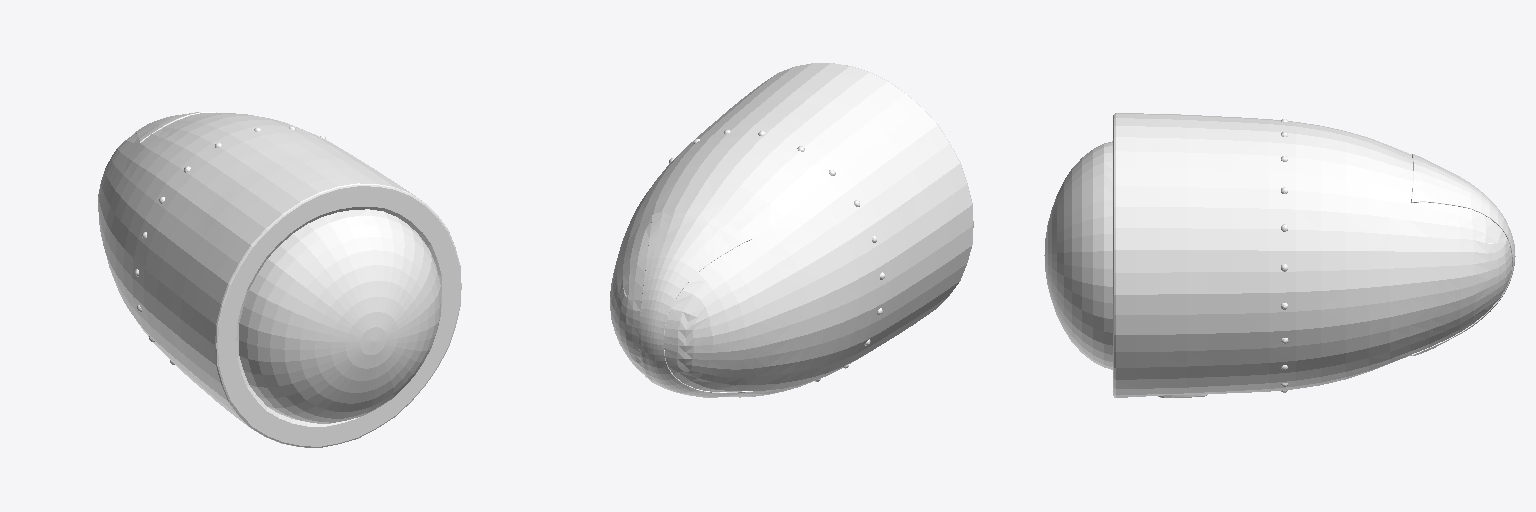
File: avatar2.obj
The picture shows the model from 3 angles: view 1: azimuth 30°, elevation 25°; view 2: azimuth 150°, elevation 25°; view 3: azimuth 270°, elevation 25°; orthographic projection.
Parts seen in each view (by area): view 1: mesh_id6; view 2: mesh_id6; view 3: mesh_id6.
Boxes of the visible parts, <box> form: mesh_id6: <box>98,112,461,447</box>; mesh_id6: <box>610,63,973,397</box>; mesh_id6: <box>1044,113,1515,397</box>.
Bounding box in the file's own units: 0.3093 × 0.3115 × 0.512.